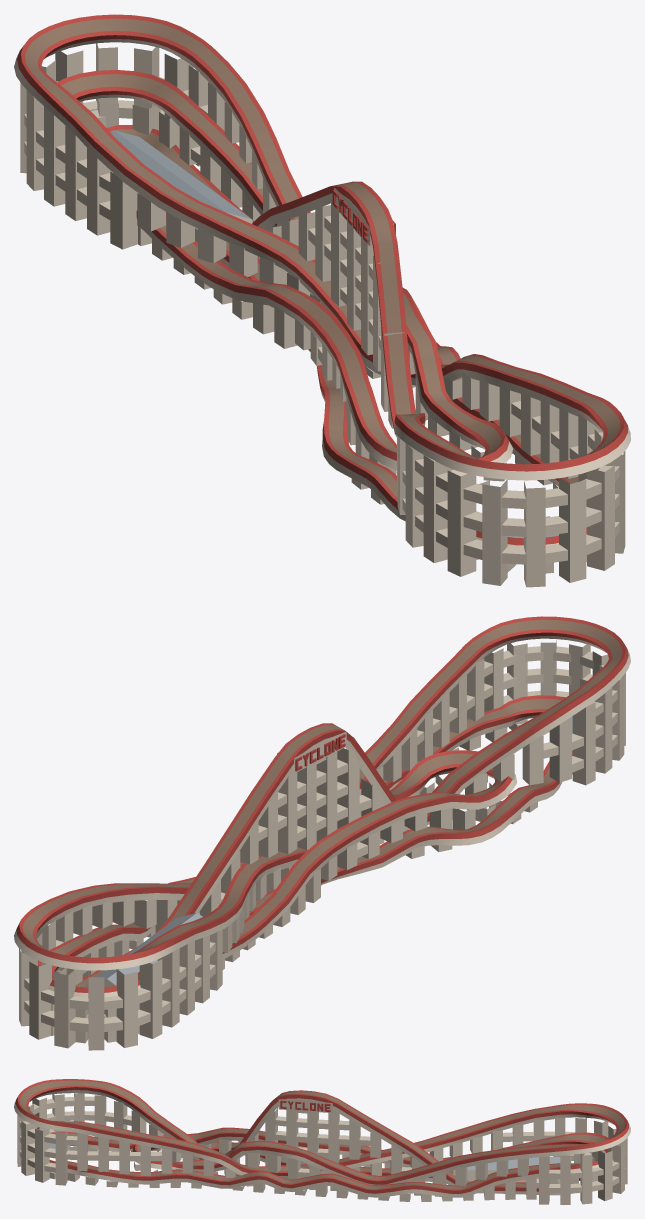
The picture shows the model from 3 angles, top to bottom: view 1: azimuth 30°, elevation 25°; view 2: azimuth 150°, elevation 25°; view 3: azimuth 270°, elevation 25°; orthographic projection. The views are drawn at different scales.
Visible parts, largest first — view 1: coney-island-cyclone; view 2: coney-island-cyclone; view 3: coney-island-cyclone.
Part boxes in pixels (<box>): coney-island-cyclone: <box>14,14,630,587</box>; coney-island-cyclone: <box>14,616,630,1050</box>; coney-island-cyclone: <box>14,1079,630,1204</box>.
Bounding box in the file's own units: 36.31 × 23.05 × 146.
